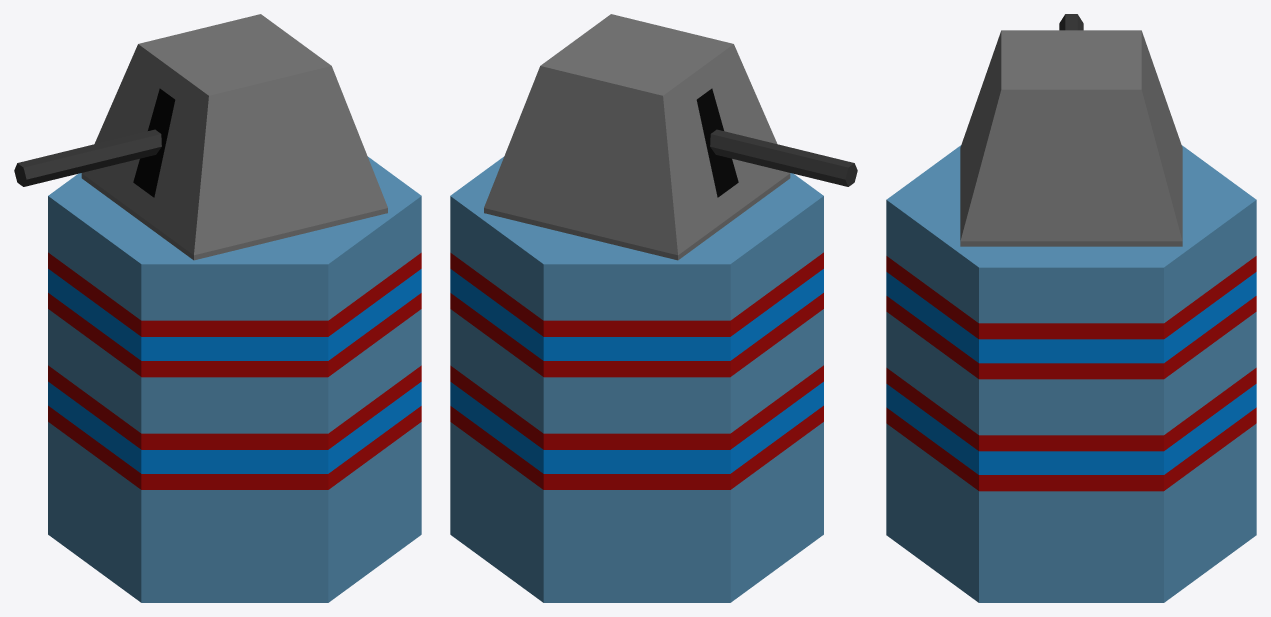
The model's file is lasertowerv1.glb.
The picture shows the model from 3 angles, left to right: view 1: azimuth 30°, elevation 25°; view 2: azimuth 150°, elevation 25°; view 3: azimuth 270°, elevation 25°; orthographic projection.
Parts seen in each view (by area): view 1: Cylinder.001, Turret, Barrel; view 2: Cylinder.001, Turret, Barrel; view 3: Cylinder.001, Turret.
Part boxes in pixels (x1=…): Cylinder.001: x1=48, y1=156, x2=421, y2=602; Turret: x1=81, y1=14, x2=387, y2=260; Barrel: x1=14, y1=129, x2=161, y2=186; Cylinder.001: x1=450, y1=156, x2=823, y2=602; Turret: x1=484, y1=14, x2=790, y2=260; Barrel: x1=710, y1=129, x2=857, y2=186; Cylinder.001: x1=886, y1=145, x2=1256, y2=602; Turret: x1=960, y1=30, x2=1182, y2=246.
Size of the model in its own units: 1.65 by 2.13 by 1.5.
